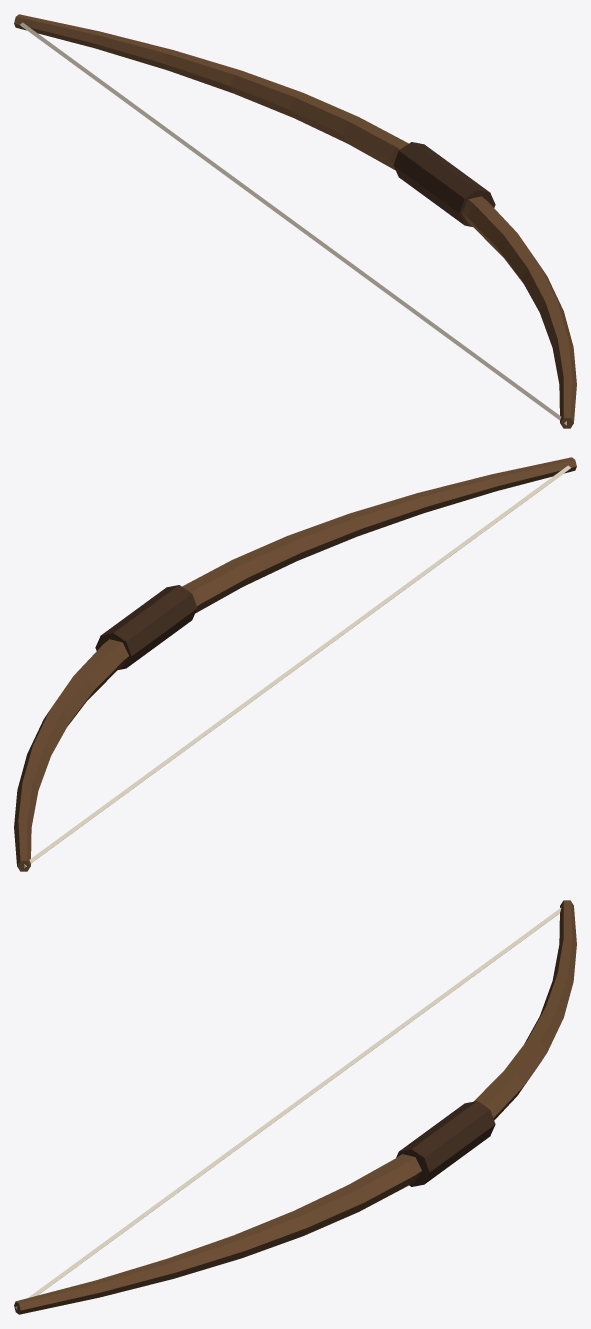
Rendered from g-shortbow.glb.
3 views of the same model, one above another, from view 1: azimuth 30°, elevation 25°; view 2: azimuth 150°, elevation 25°; view 3: azimuth 330°, elevation 25° (orthographic).
Visible parts, largest first — view 1: g-shortbow; view 2: g-shortbow; view 3: g-shortbow.
Boxes of the visible parts, x1,y1,x2,y2 form: g-shortbow: [14, 14, 576, 428]; g-shortbow: [14, 457, 576, 871]; g-shortbow: [14, 900, 576, 1314].
Size of the model in its own units: 0.1844 by 0.038 by 1.01.
